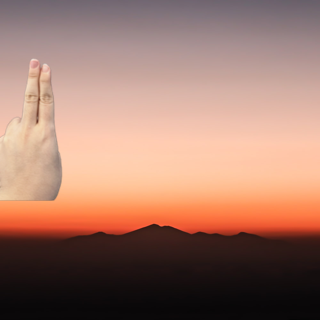DHAVE: (1, 55, 69, 200)
